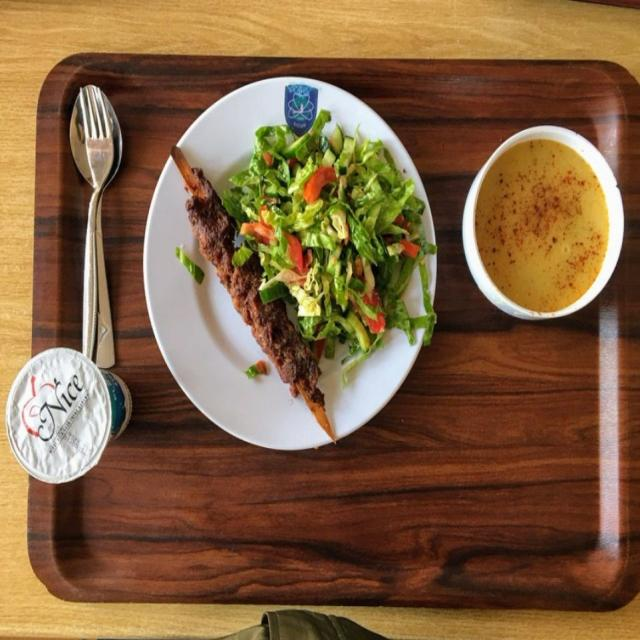ana_yemek: (164, 87, 438, 445)
corba: (459, 127, 626, 321)
